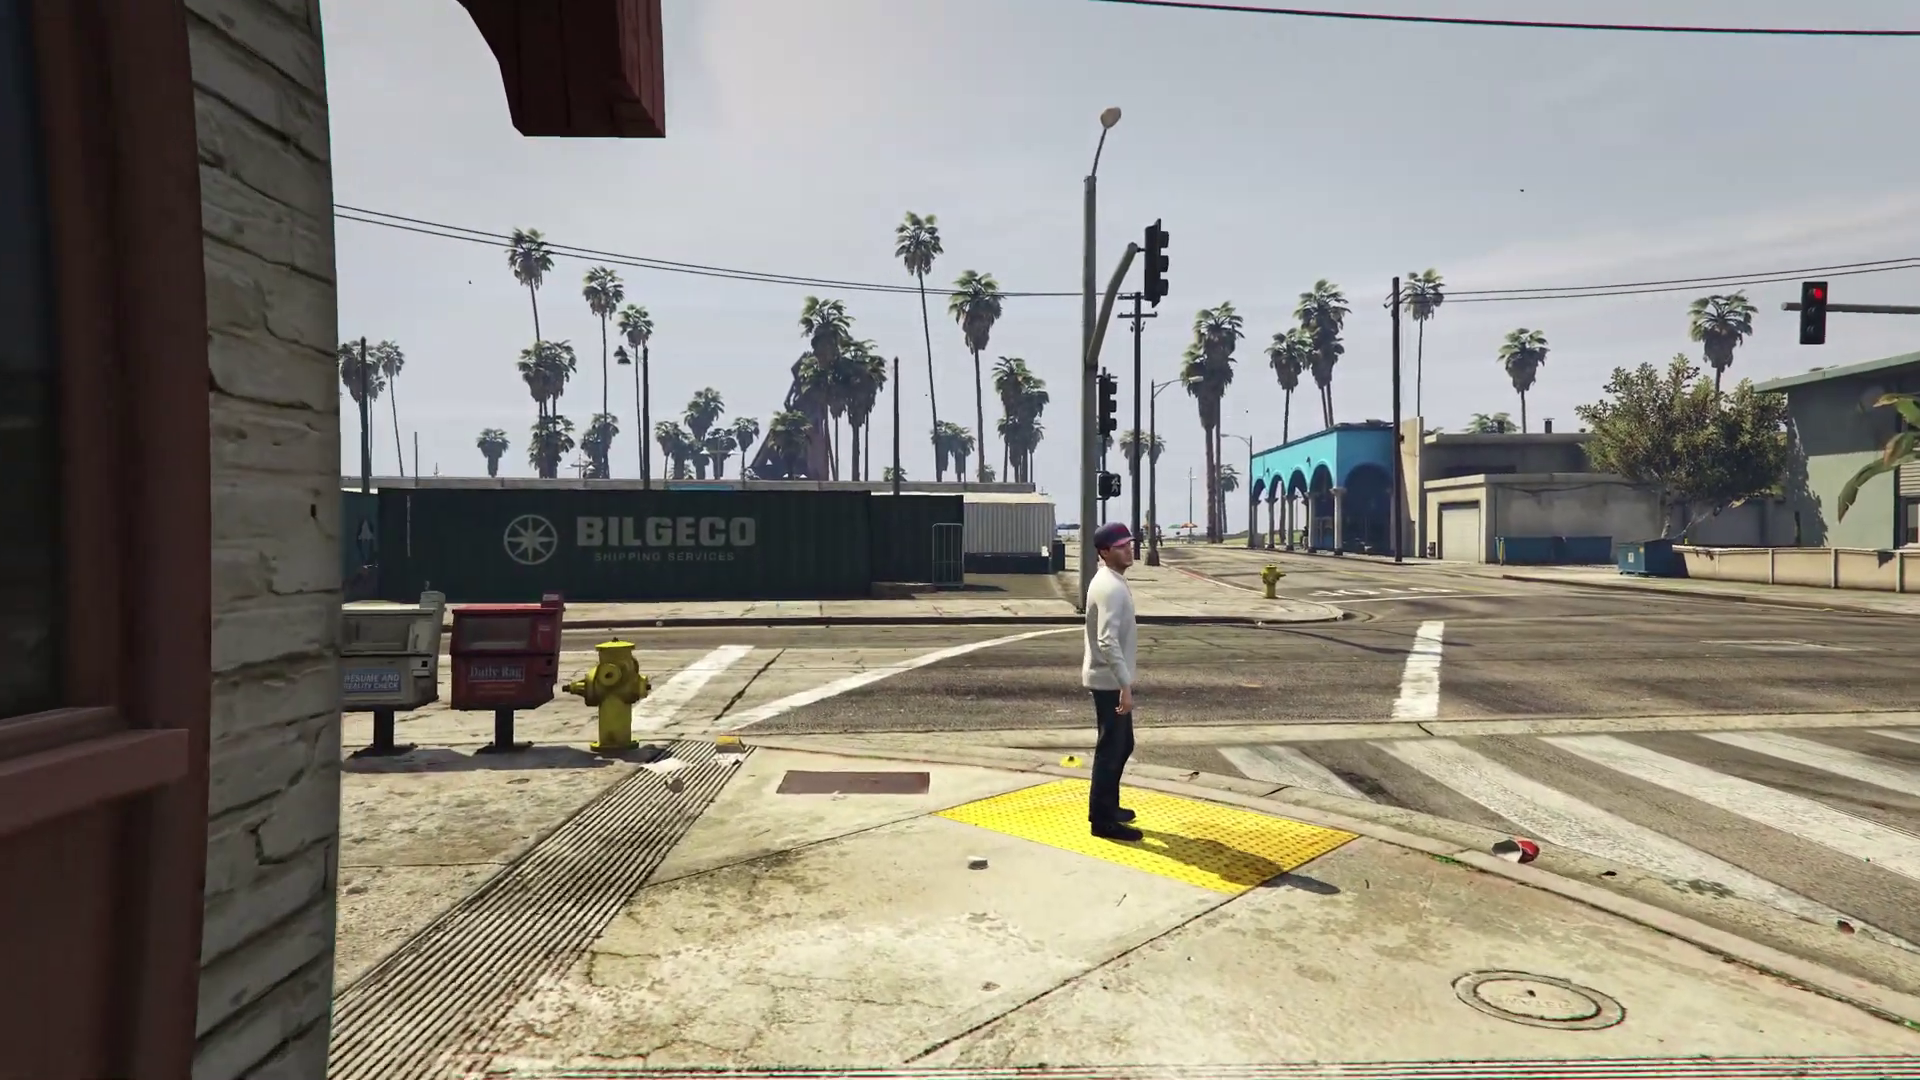person: (1081, 519, 1146, 844)
traffic light: (1144, 220, 1168, 304), (1799, 278, 1827, 344), (1098, 375, 1115, 439), (1100, 473, 1122, 498)
